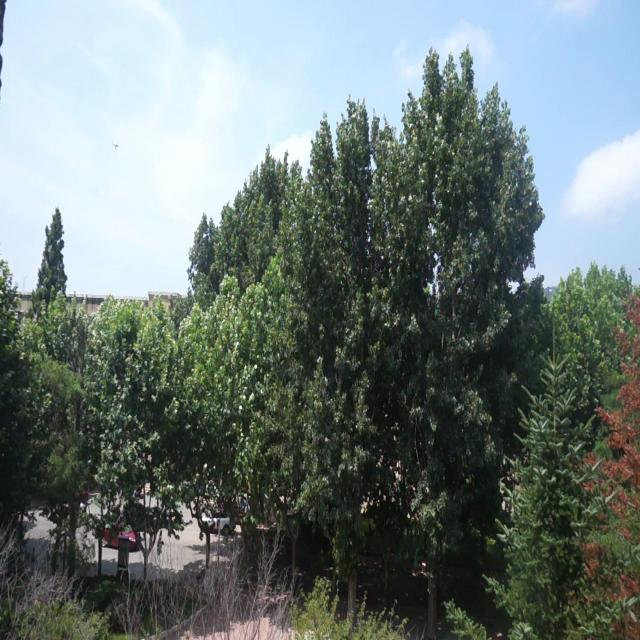UAV: (113, 143, 119, 149)
